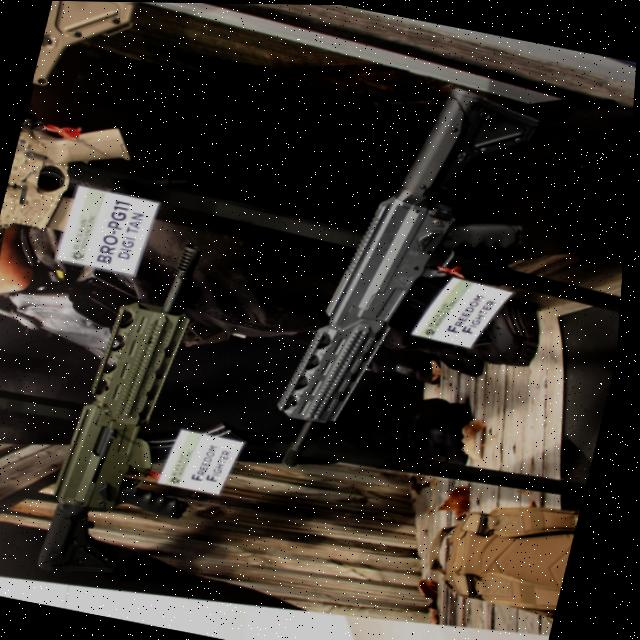firearm: (261, 63, 554, 497), (0, 0, 168, 469), (37, 226, 250, 592)
